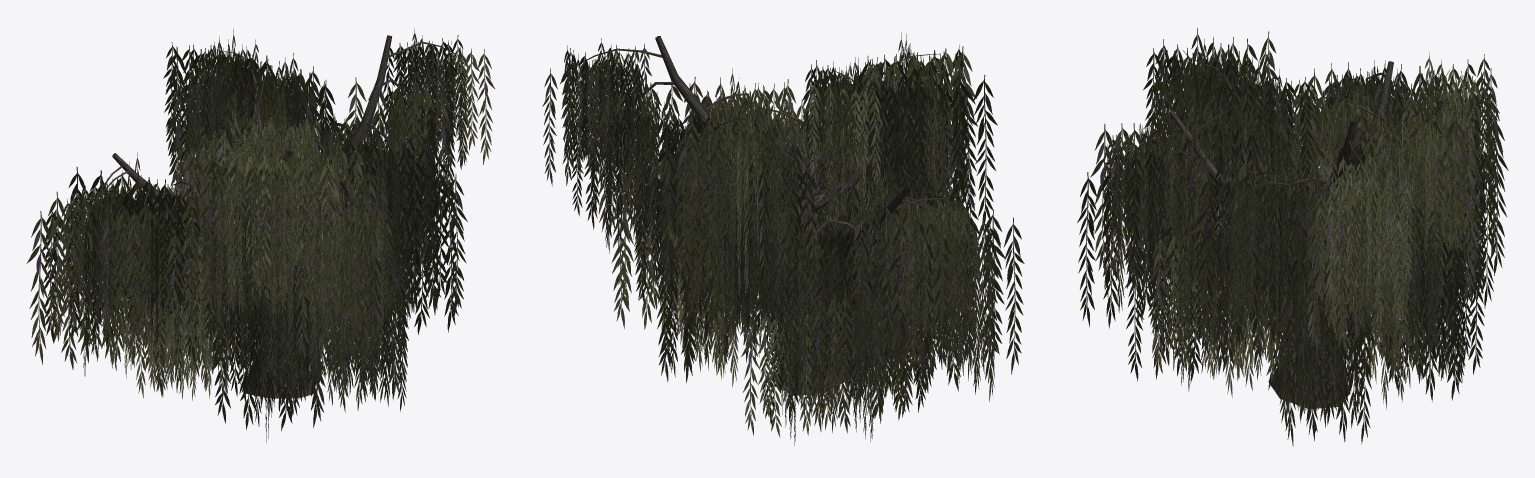
File: nature-black-weeping-willow_v2.glb
The picture shows the model from 3 angles, left to right: view 1: azimuth 30°, elevation 25°; view 2: azimuth 150°, elevation 25°; view 3: azimuth 270°, elevation 25°; orthographic projection. The views are drawn at different scales.
Visible parts, largest first — view 1: nature-black-weeping-willow; view 2: nature-black-weeping-willow; view 3: nature-black-weeping-willow.
Part boxes in pixels (x1=…): nature-black-weeping-willow: x1=26, y1=29, x2=494, y2=442; nature-black-weeping-willow: x1=542, y1=32, x2=1024, y2=445; nature-black-weeping-willow: x1=1077, y1=28, x2=1508, y2=446.
Size of the model in its own units: 9.84 by 6.71 by 7.82.
2 materials, 2 textured.
